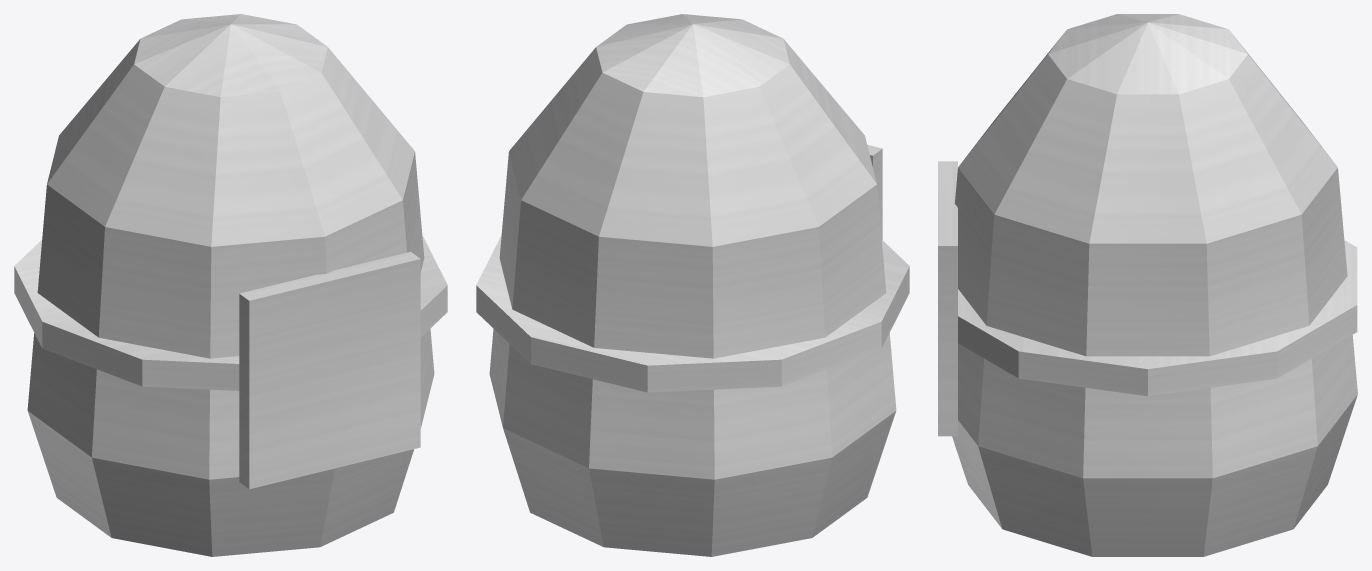
File: transport_pod.obj
3 renders of one model, left to right at view 1: azimuth 30°, elevation 25°; view 2: azimuth 150°, elevation 25°; view 3: azimuth 270°, elevation 25°, orthographic.
Parts seen in each view (by area): view 1: transport_pod; view 2: transport_pod; view 3: transport_pod.
Part boxes in pixels (x1,y1,x2,y2): transport_pod: (14, 14, 447, 556); transport_pod: (476, 14, 909, 556); transport_pod: (938, 14, 1357, 556).
Bounding box in the file's own units: 0.88 × 1.02 × 0.84.
